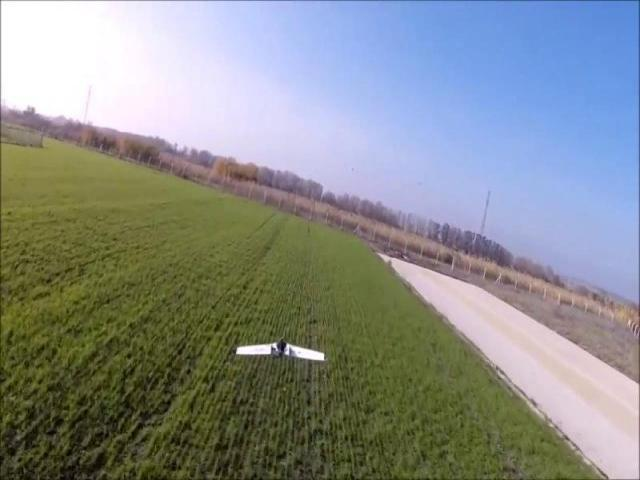hedef: (238, 331, 328, 372)
